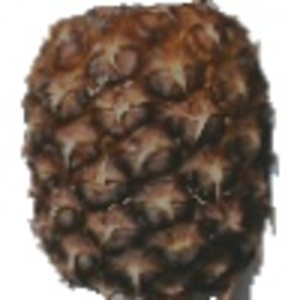abacaxi: (16, 2, 283, 287)
